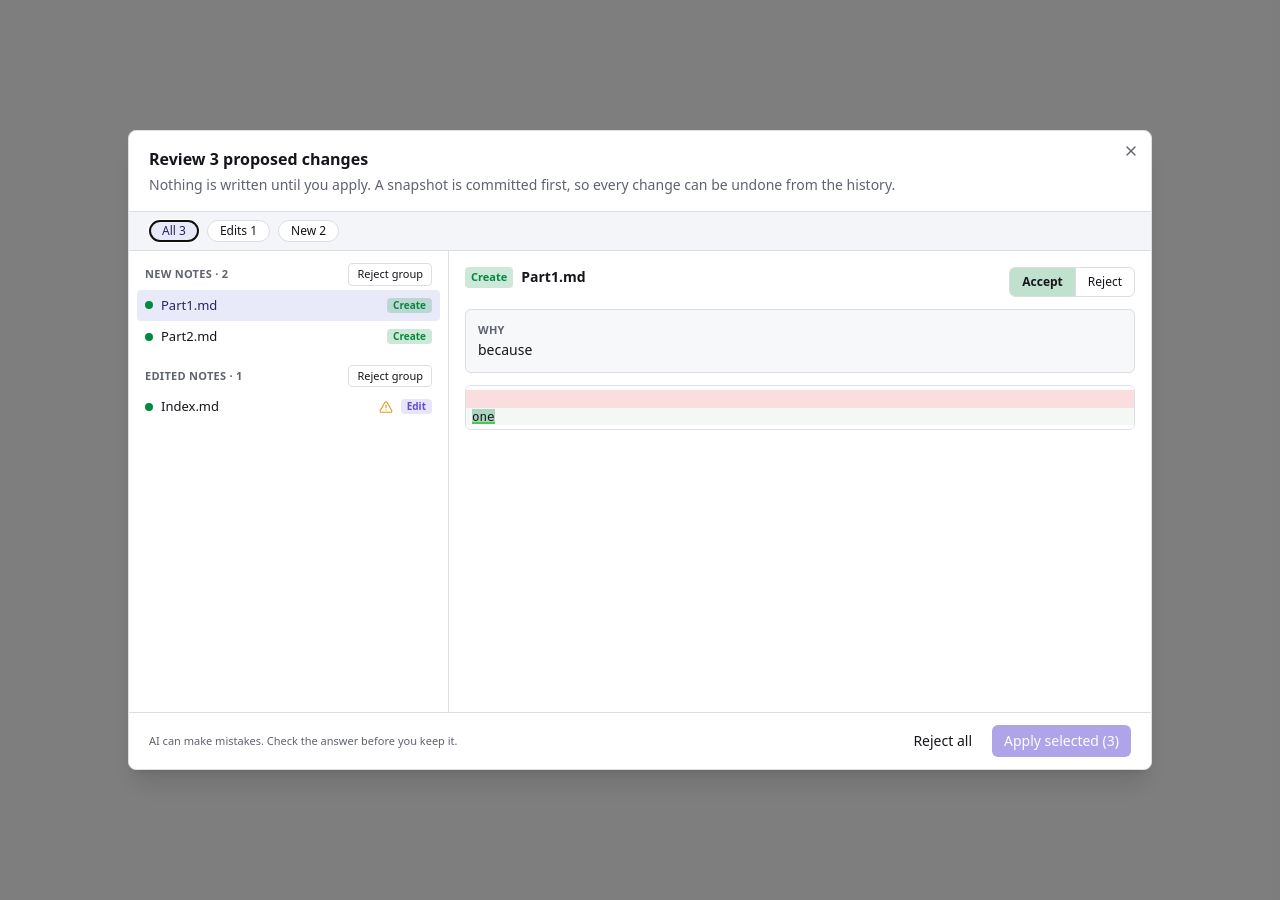
Scenario: ProposalReview › flags files that changed since the proposal and blocks apply until re-confirmed
Click the button "Index.md Edit". click: point(190, 406)
box: [137,391,440,422]
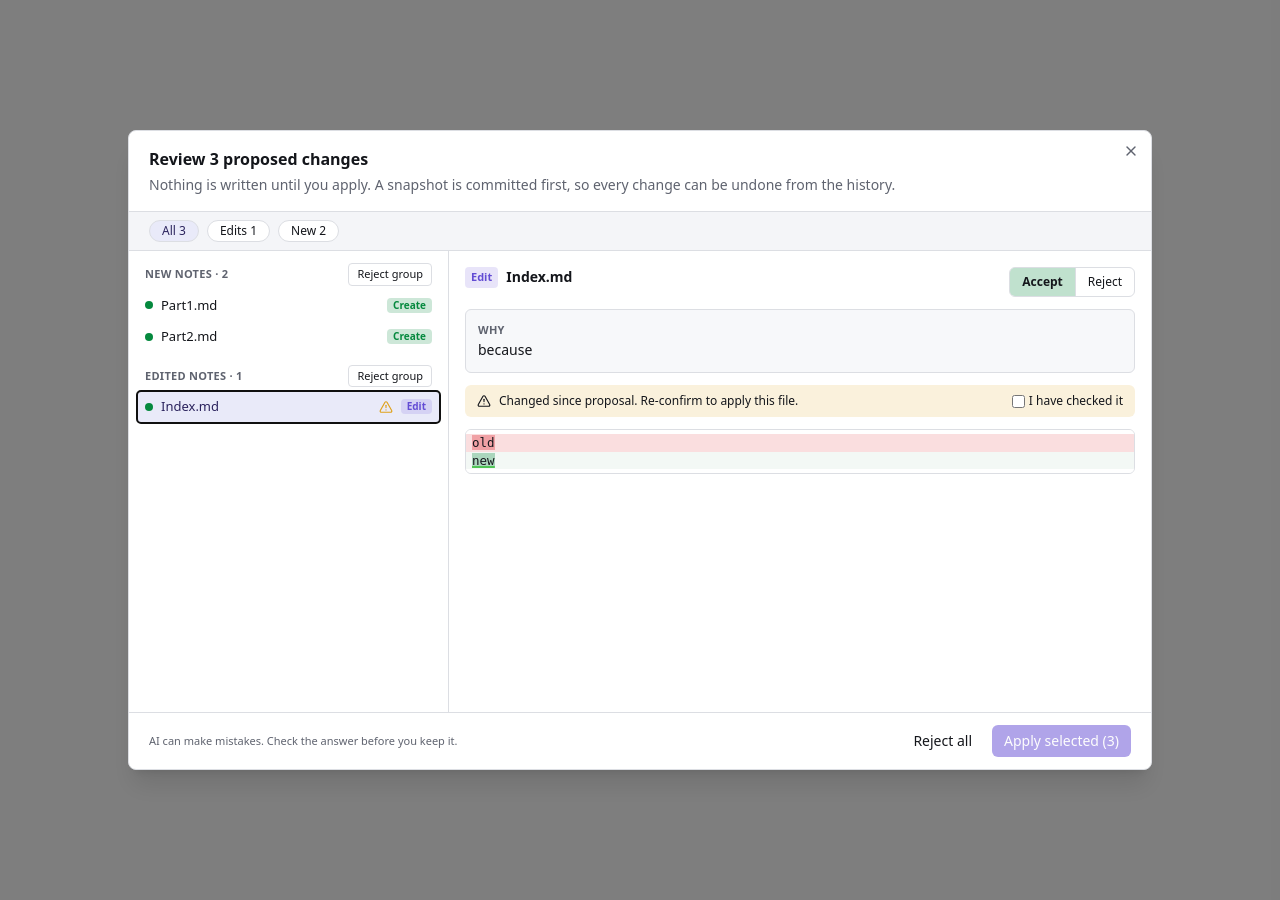
Expected: the button "Apply selected (3)" is disabled, [992,725,1131,757]
Result: the text "Changed since proposal. Re-confirm to apply this file." is shown at [499,392,798,409]
Click the checkbox labelled "I have checked it". click: point(1018, 401)
box: [1012,394,1025,408]
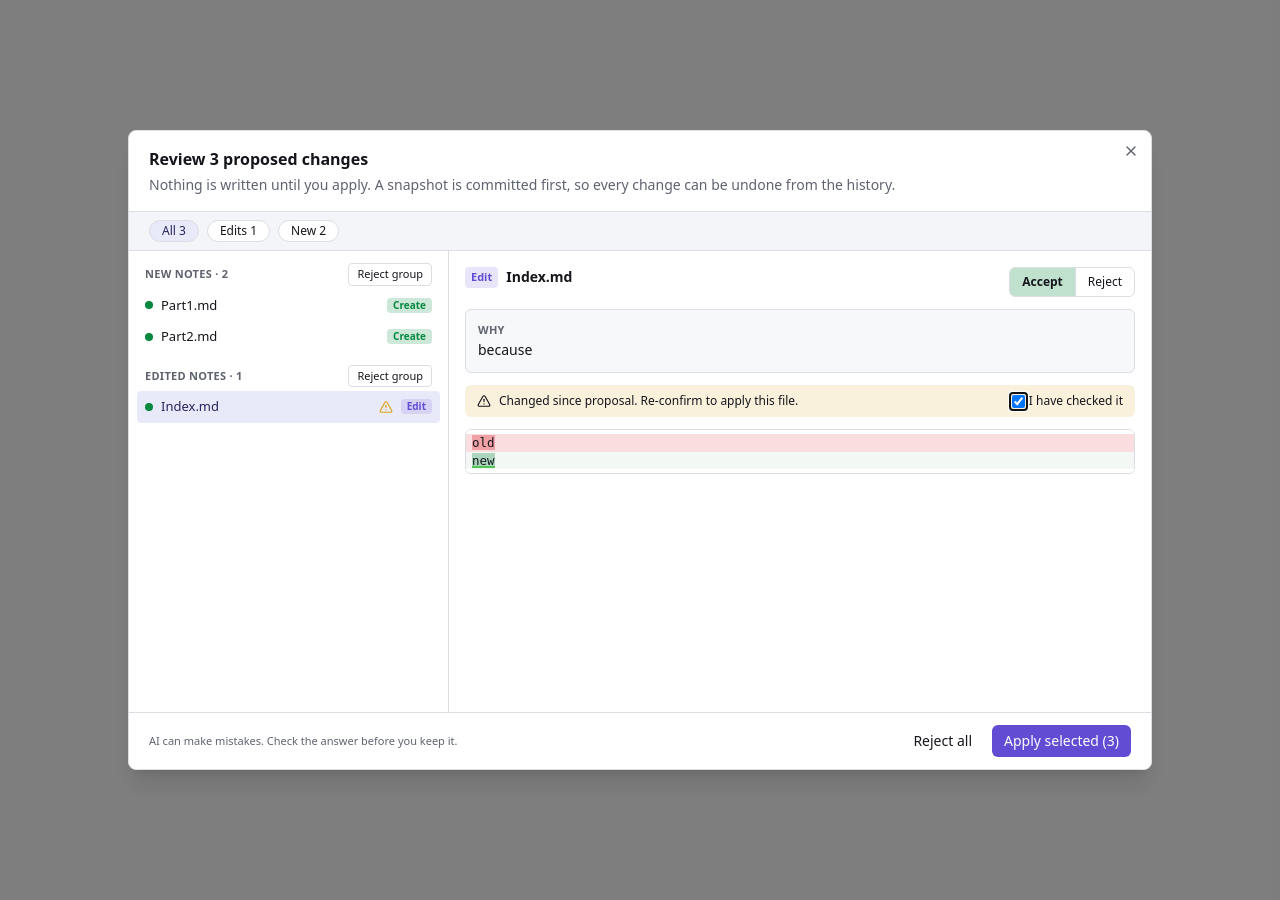
Result: the button "Apply selected (3)" is enabled at [992,725,1131,757]
